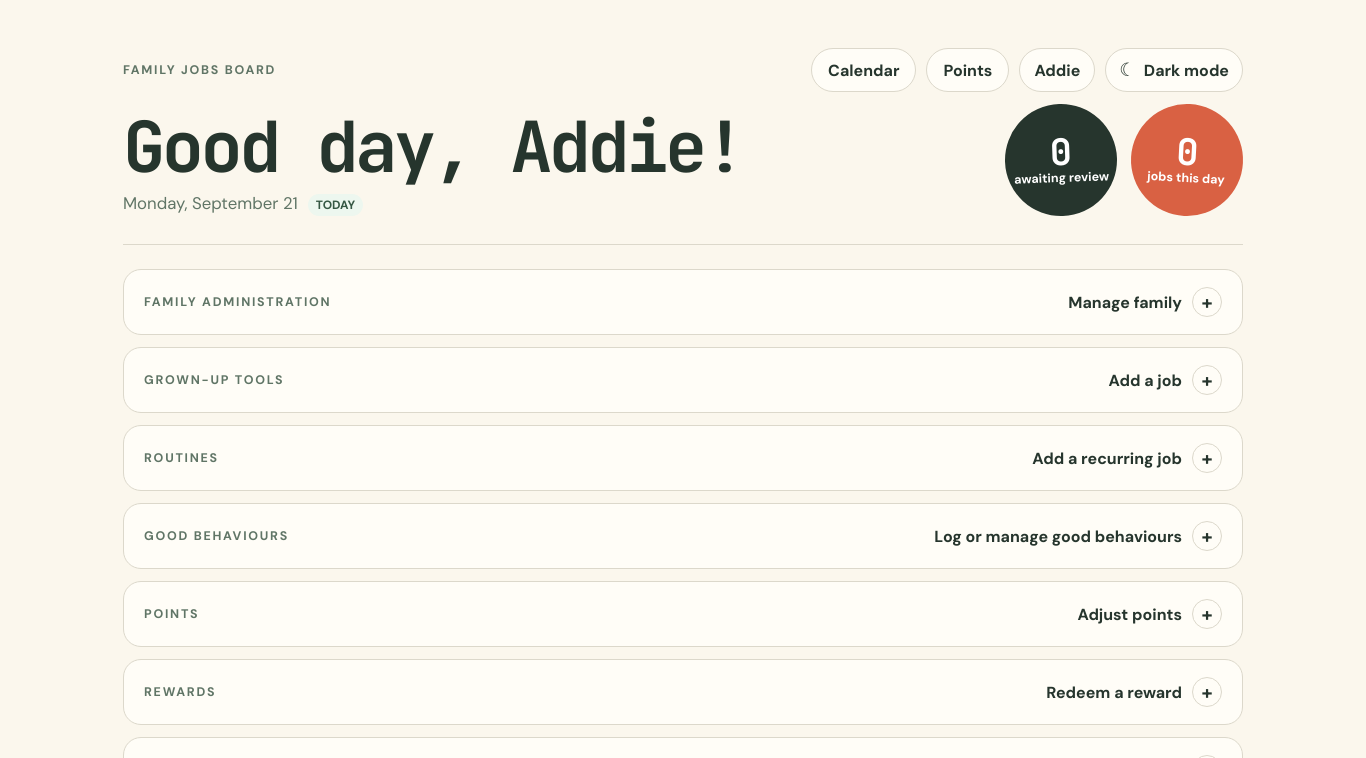
Points ledger › shows adults every child's points and filters to one child
Expected: the heading "Good day, Addie!" is shown, left=123, top=112, right=742, bottom=182
Click the link "Points".
click(968, 70)  # box left=926, top=48, right=1009, bottom=92
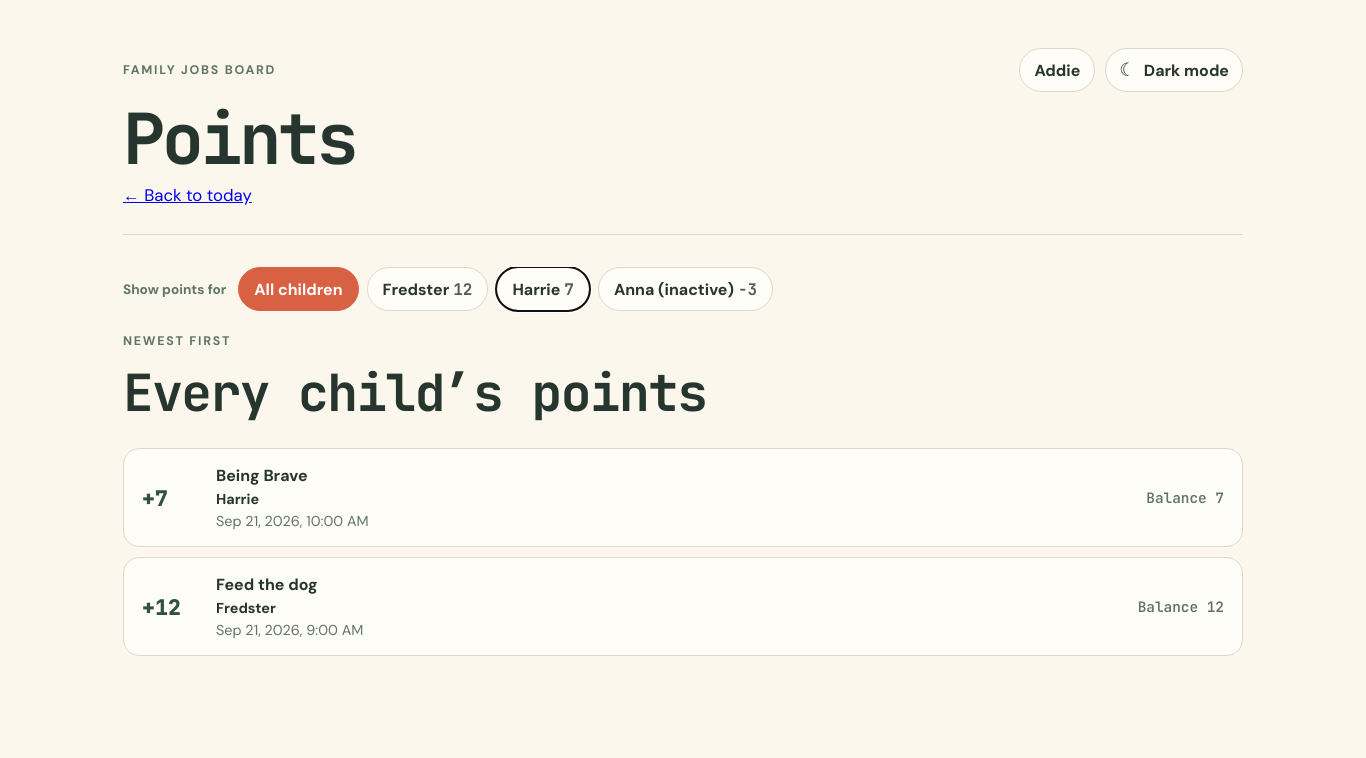
Result: the heading "Every child’s points" is shown at left=123, top=359, right=706, bottom=426
Result: the link "All children" is shown at left=238, top=267, right=359, bottom=311
Result: the list item "+7 Being Brave Harrie Sep 21, 2026, 10:00 AM Balance 7" is shown at left=123, top=448, right=1243, bottom=547
Press Enter
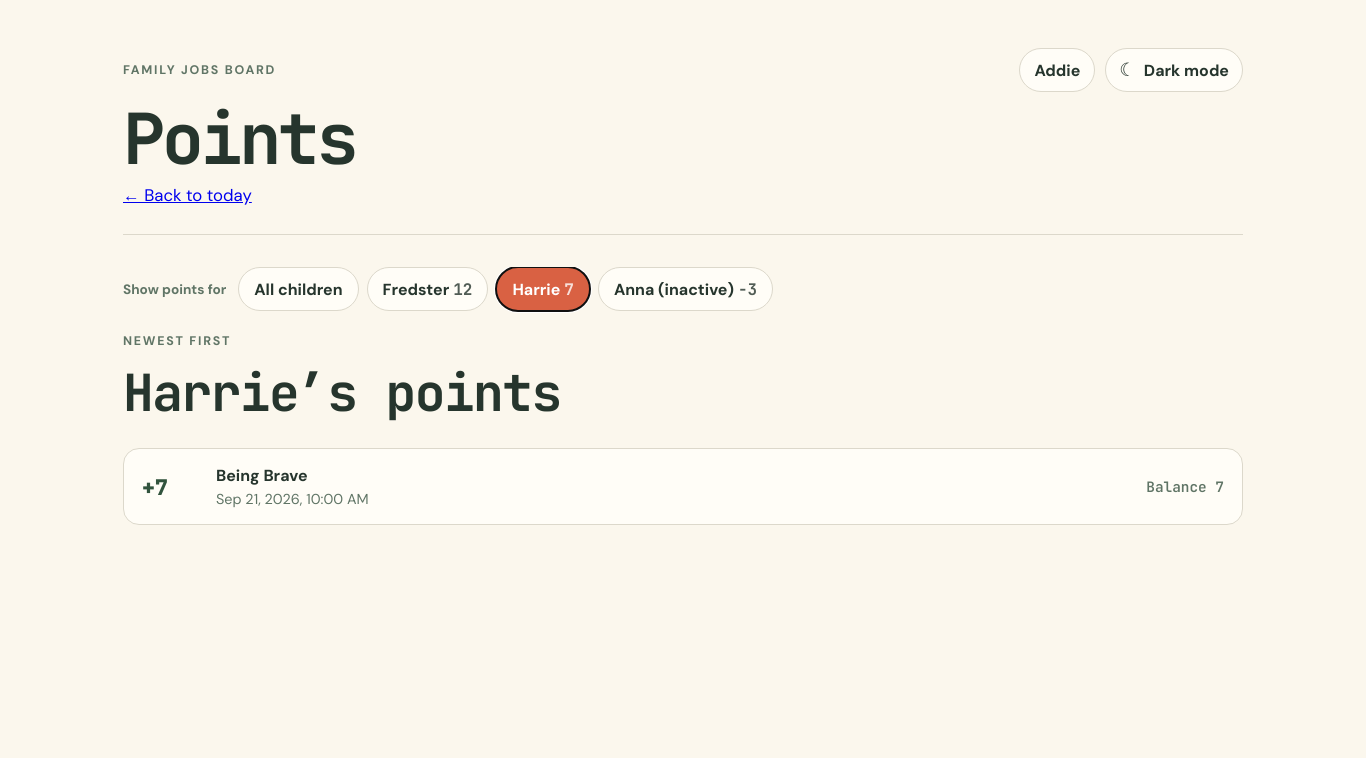
Expected: the list item shows "Being Brave", left=216, top=465, right=308, bottom=486
Result: the heading "Harrie’s points" is shown at left=123, top=359, right=561, bottom=426
